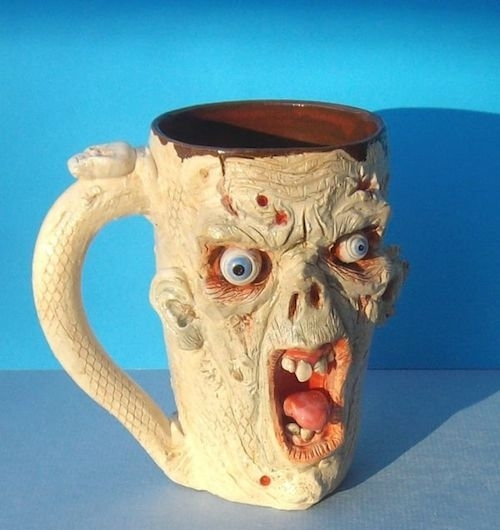cup: (31, 100, 394, 513)
